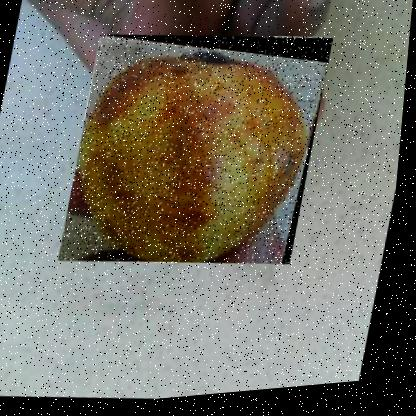guava_rotten: (60, 20, 335, 287)
